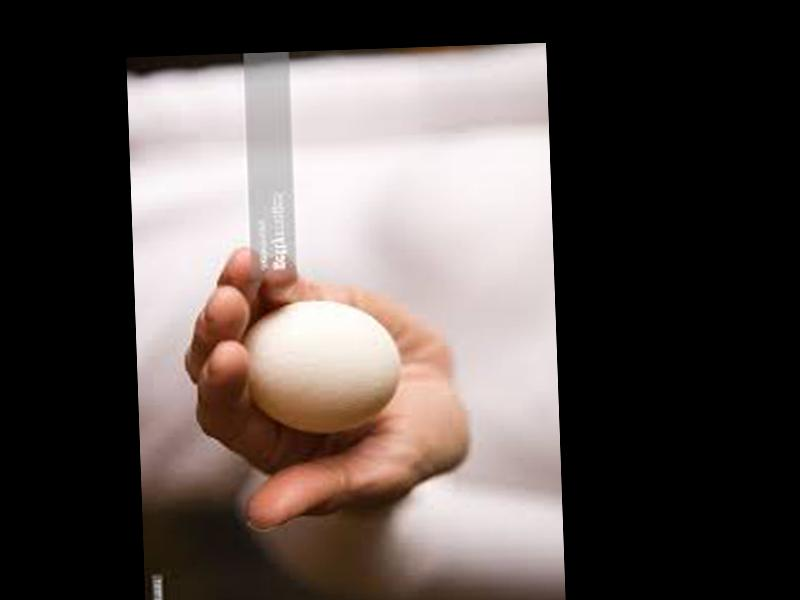Eggs: (242, 298, 400, 438)
